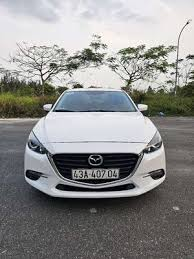Bien-so: (73, 169, 120, 180)
